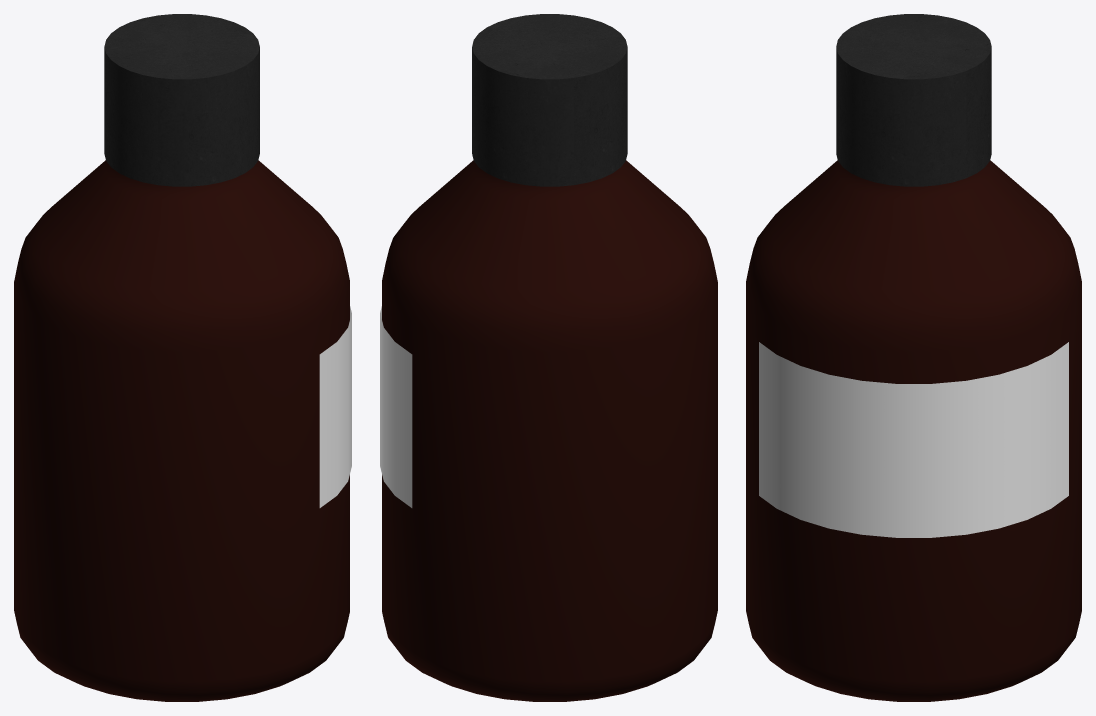
The model's file is SM_亚铁氰化钾溶液.FBX.
The picture shows the model from 3 angles, left to right: view 1: azimuth 30°, elevation 25°; view 2: azimuth 150°, elevation 25°; view 3: azimuth 270°, elevation 25°; orthographic projection.
Visible parts, largest first — view 1: SM_亚铁氰化钾_主体, SM_亚铁氰化钾_盖子; view 2: SM_亚铁氰化钾_主体, SM_亚铁氰化钾_盖子; view 3: SM_亚铁氰化钾_主体, SM_亚铁氰化钾_盖子.
Part boxes in pixels (left/top/right/bottom): SM_亚铁氰化钾_主体: left=14, top=160, right=351, bottom=701; SM_亚铁氰化钾_盖子: left=104, top=14, right=259, bottom=186; SM_亚铁氰化钾_主体: left=380, top=160, right=717, bottom=701; SM_亚铁氰化钾_盖子: left=472, top=14, right=627, bottom=186; SM_亚铁氰化钾_主体: left=746, top=160, right=1081, bottom=701; SM_亚铁氰化钾_盖子: left=836, top=14, right=991, bottom=186.
Bounding box in the file's own units: 59.45 × 116 × 59.47.
